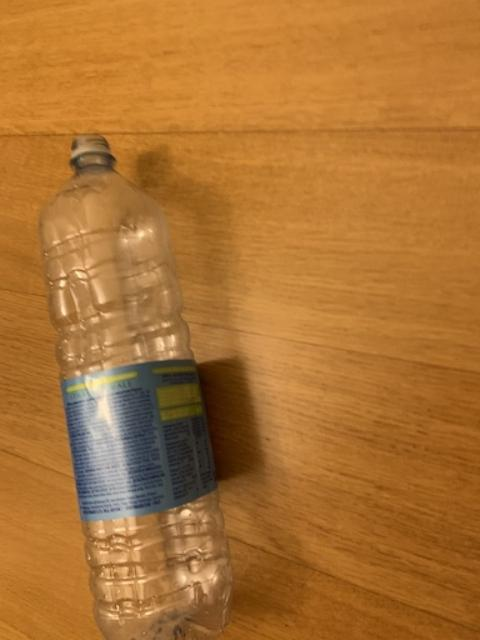plastic: (39, 134, 230, 638)
